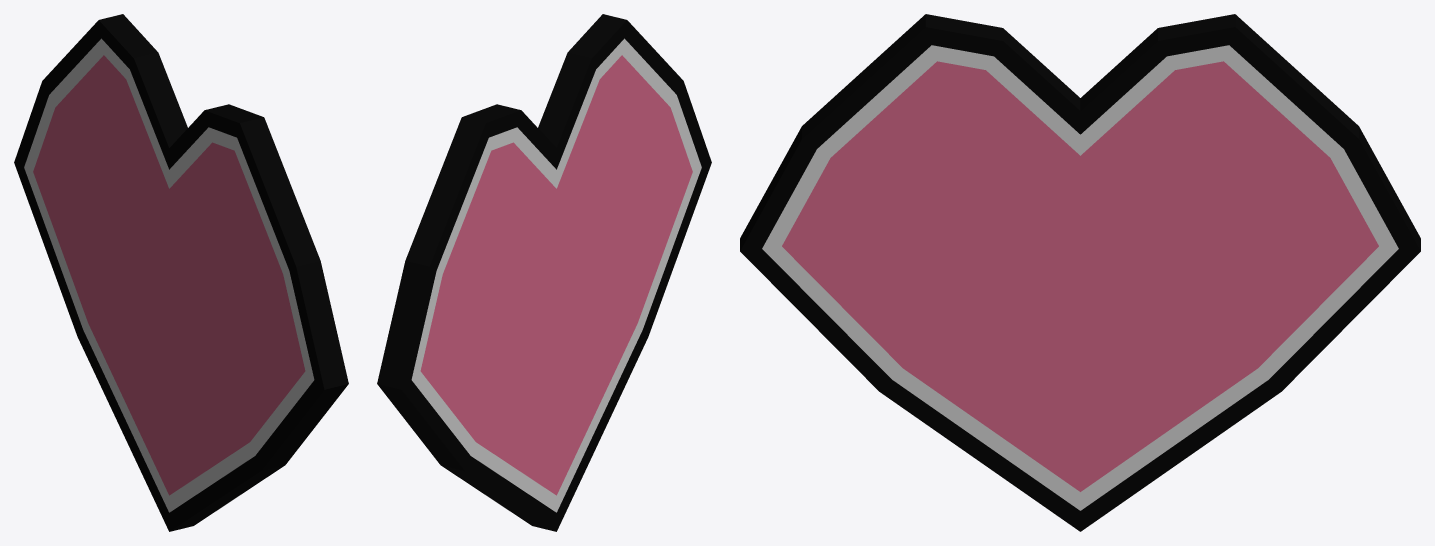
The model's file is DecoMur2.fbx.
3 views of the same model, side by side, from view 1: azimuth 30°, elevation 25°; view 2: azimuth 150°, elevation 25°; view 3: azimuth 270°, elevation 25° (orthographic). The views are drawn at different scales.
Visible parts, largest first — view 1: HeartShape; view 2: HeartShape; view 3: HeartShape.
Boxes of the visible parts, left/top/right/bottom form: HeartShape: left=14, top=14, right=348, bottom=531; HeartShape: left=377, top=14, right=711, bottom=531; HeartShape: left=740, top=14, right=1420, bottom=531.
Bounding box in the file's own units: 0.1 × 1.8 × 2.2.
